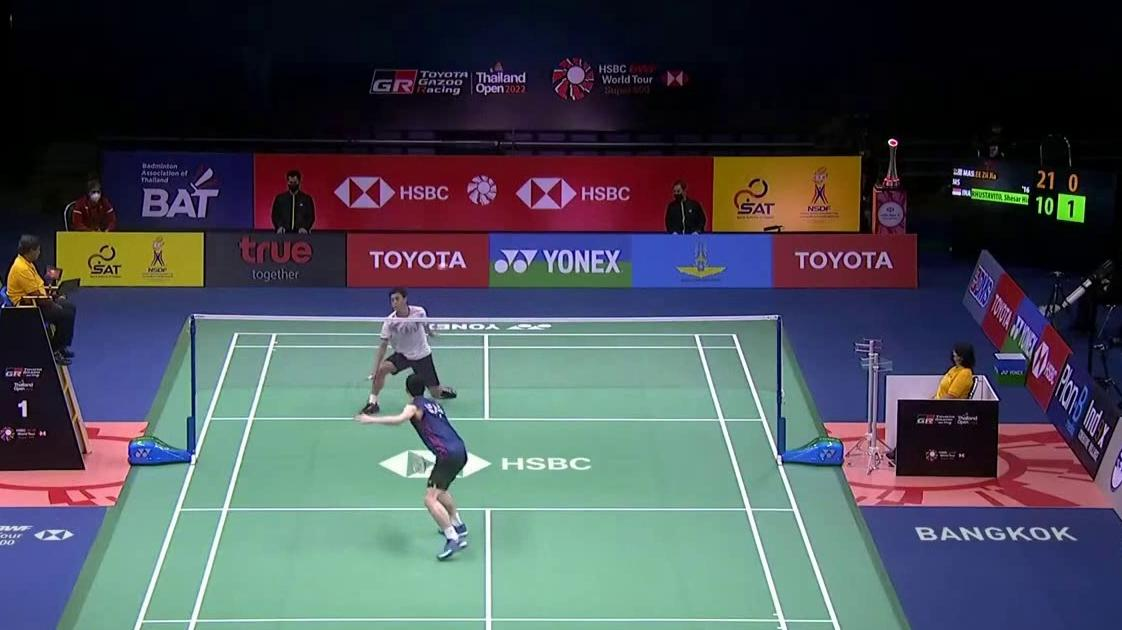racket: (344, 371, 379, 399), (412, 454, 450, 474)
shuttle: (437, 262, 448, 271)
